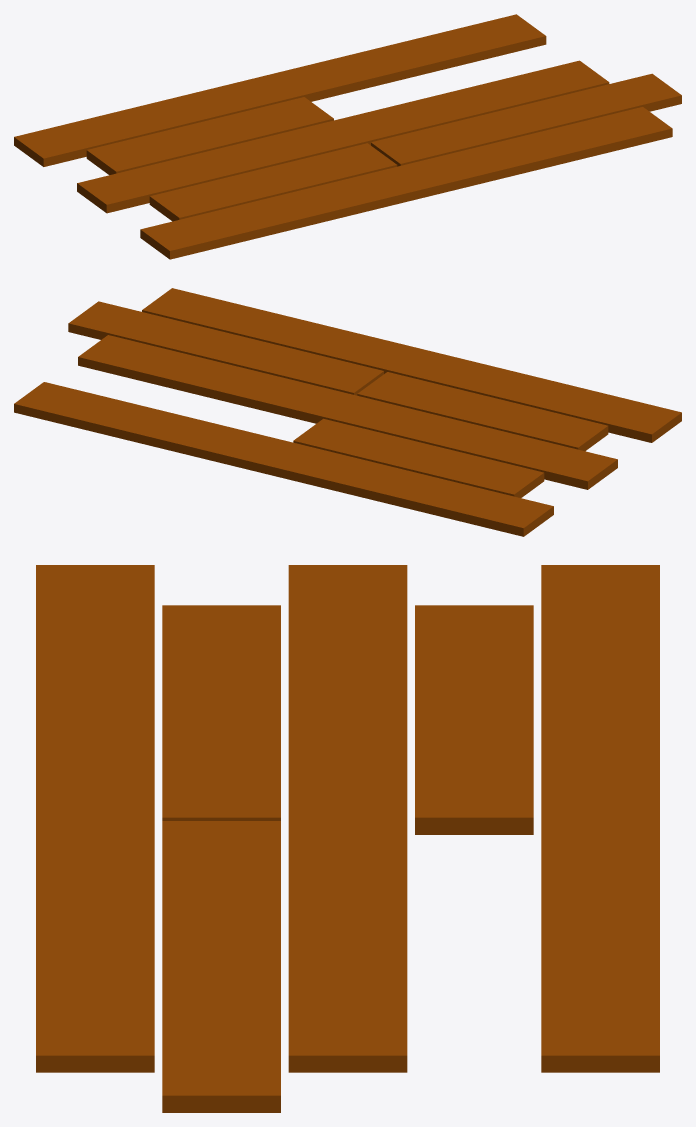
Rendered from RPG_Tiles_Square_Wooden_Boards_Double_03.FBX.
The picture shows the model from 3 angles, top to bottom: view 1: azimuth 30°, elevation 25°; view 2: azimuth 150°, elevation 25°; view 3: azimuth 270°, elevation 25°; orthographic projection. The views are drawn at different scales.
Visible parts, largest first — view 1: RPG_Tiles_Square_Wooden_Boards_Double_03; view 2: RPG_Tiles_Square_Wooden_Boards_Double_03; view 3: RPG_Tiles_Square_Wooden_Boards_Double_03.
Part boxes in pixels (<box>): RPG_Tiles_Square_Wooden_Boards_Double_03: <box>14,14,681,259</box>; RPG_Tiles_Square_Wooden_Boards_Double_03: <box>14,288,681,536</box>; RPG_Tiles_Square_Wooden_Boards_Double_03: <box>36,565,659,1112</box>.
Bounding box in the file's own units: 5964 × 90 × 2964.
